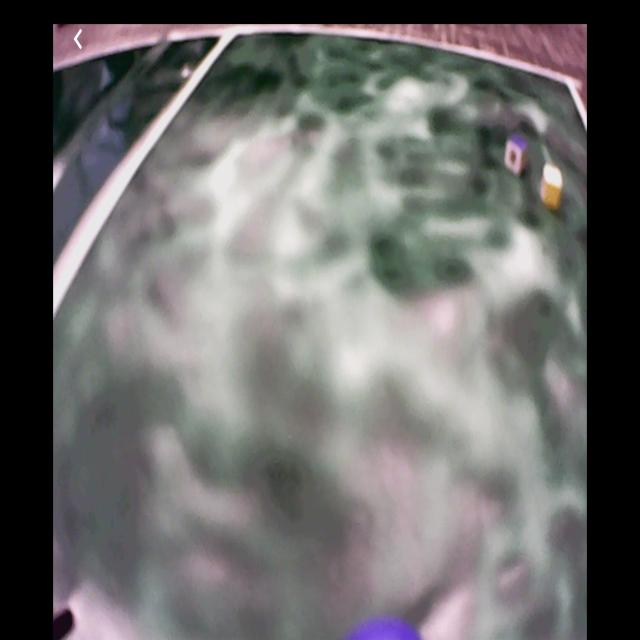ball: (344, 612, 427, 640)
